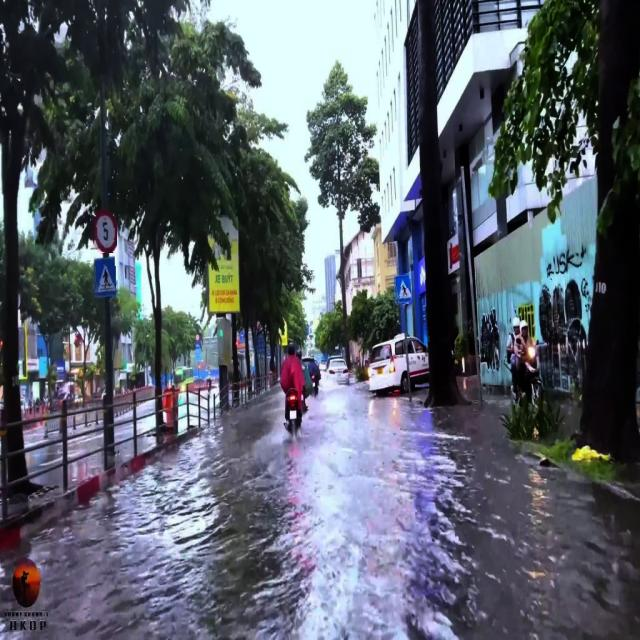duong_nguoi_di_bo_sang_ngang: (95, 257, 116, 298), (394, 273, 411, 304)
khac: (91, 208, 117, 253)
